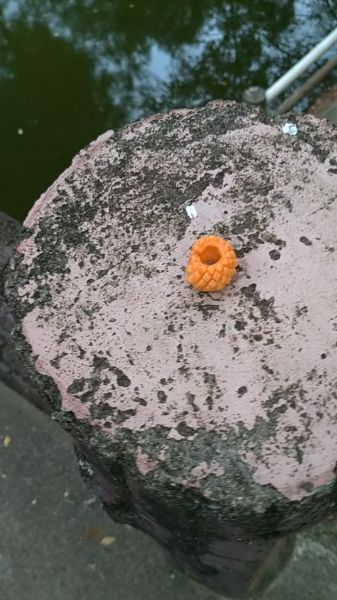eggs: (180, 227, 241, 293)
